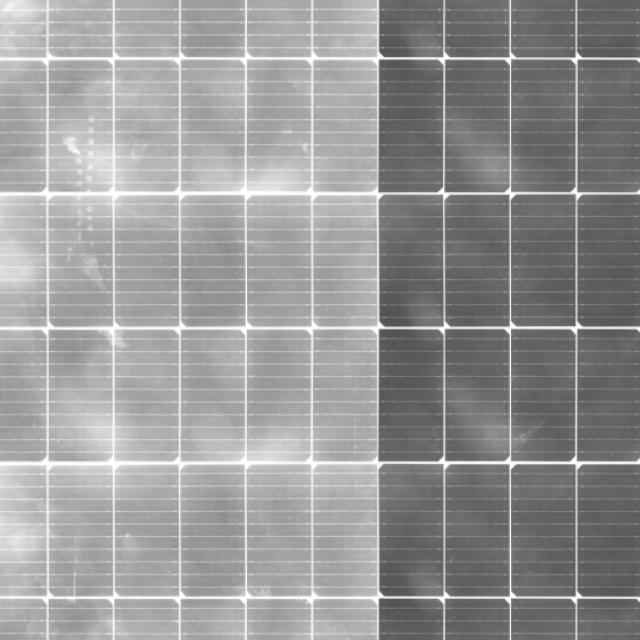CORRECT: (230, 0, 640, 640), (0, 6, 367, 640)
